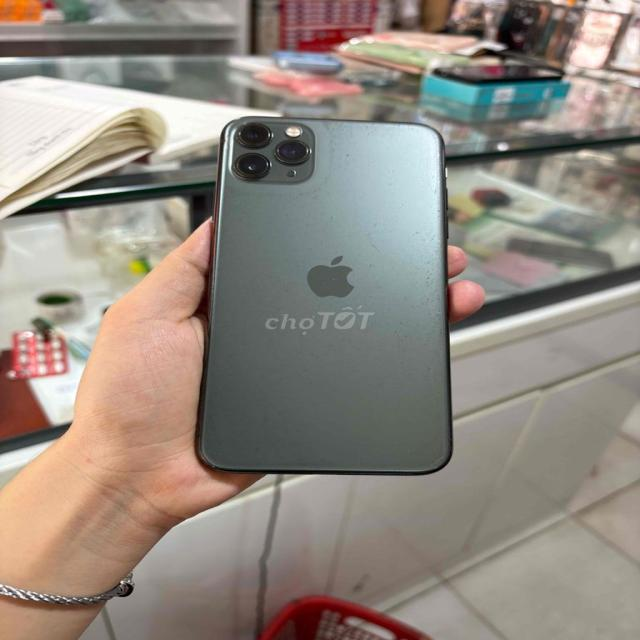scratch: (421, 211, 455, 469), (311, 110, 349, 208), (393, 266, 416, 388), (222, 181, 336, 203), (347, 115, 434, 139), (364, 218, 382, 270), (297, 366, 311, 379)
